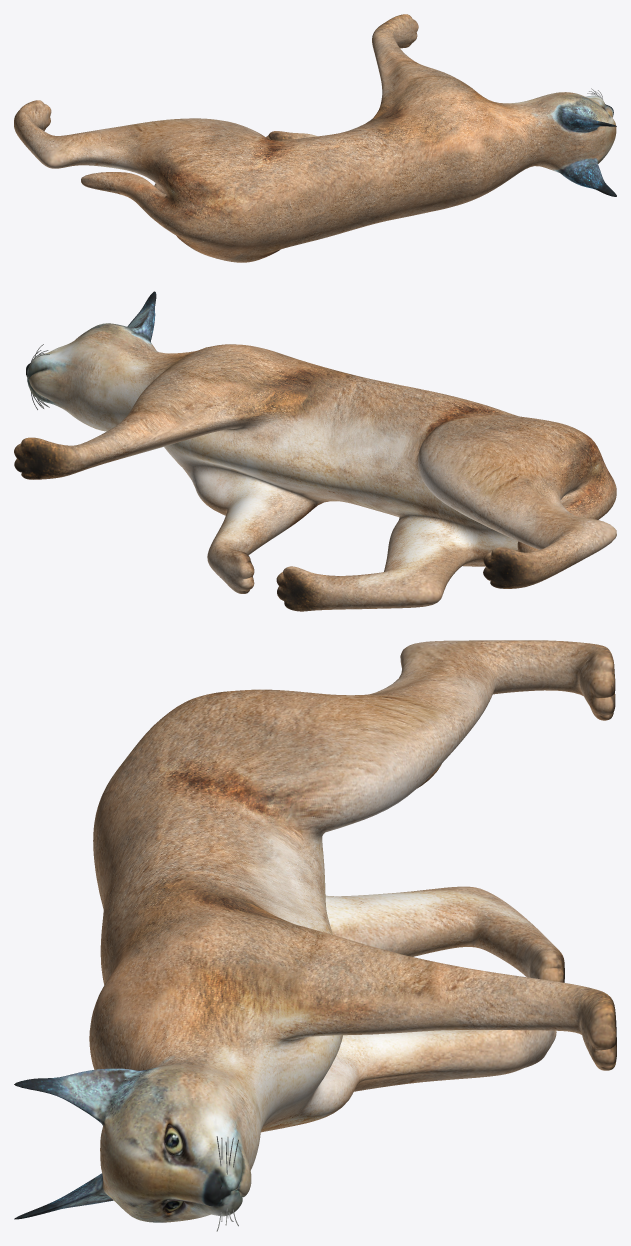
File: 12161_Cat_v1_L2.obj
3 renders of one model, top to bottom at view 1: azimuth 30°, elevation 25°; view 2: azimuth 150°, elevation 25°; view 3: azimuth 270°, elevation 25°, orthographic. The views are drawn at different scales.
Visible parts, largest first — view 1: 12161_Cat_v1_L2; view 2: 12161_Cat_v1_L2; view 3: 12161_Cat_v1_L2.
Part boxes in pixels (x1=…): 12161_Cat_v1_L2: x1=14, y1=14, x2=616, y2=262; 12161_Cat_v1_L2: x1=14, y1=291, x2=616, y2=611; 12161_Cat_v1_L2: x1=14, y1=640, x2=616, y2=1231.
Size of the model in its own units: 75.14 by 16.39 by 39.86.
2 materials, 1 textured.
